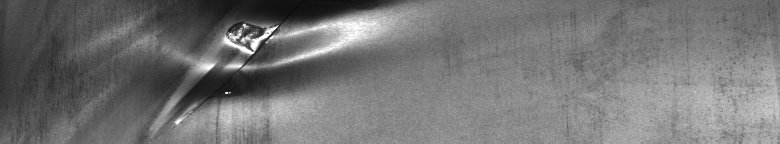ke: (163, 4, 389, 125)
